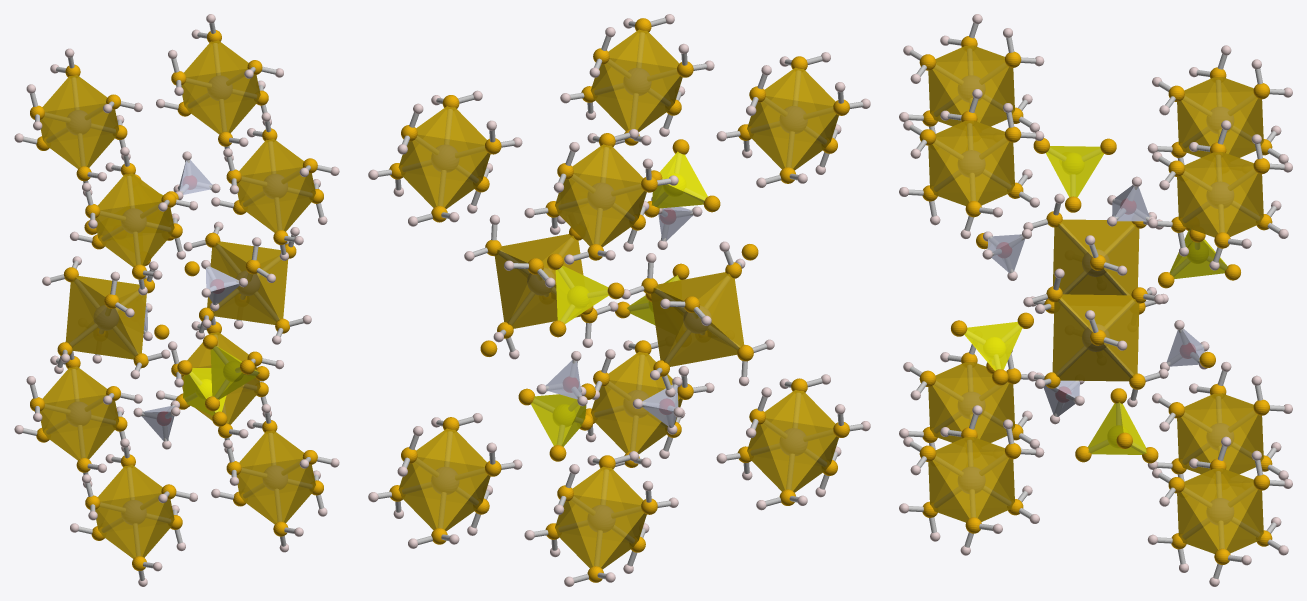
The model's file is FeH20S2(NO7)2.fbx.
3 views of the same model, side by side, from view 1: azimuth 30°, elevation 25°; view 2: azimuth 150°, elevation 25°; view 3: azimuth 270°, elevation 25° (orthographic). The views are drawn at different scales.
Visible parts, largest first — view 1: Shape_IndexedFaceSet, Shape_IndexedFaceSet.024, Shape_IndexedFaceSet.032, Shape_IndexedFaceSet.040, Shape_IndexedFaceSet.016, Shape_IndexedFaceSet.056, Shape_IndexedFaceSet.008, Shape_IndexedFaceSet.064, Shape_IndexedFaceSet.072, Shape_IndexedFaceSet.066, Shape_IndexedFaceSet.011, Shape_IndexedFaceSet.019 (+70 smaller); view 2: Shape_IndexedFaceSet.014, Shape_IndexedFaceSet.054, Shape_IndexedFaceSet.006, Shape_IndexedFaceSet.030, Shape_IndexedFaceSet.022, Shape_IndexedFaceSet.038, Shape_IndexedFaceSet.046, Shape_IndexedFaceSet.062, Shape_IndexedFaceSet.070, Shape_IndexedFaceSet.087, Shape_IndexedFaceSet.066, Shape_IndexedFaceSet.078 (+57 smaller); view 3: Shape_IndexedFaceSet.037, Shape_IndexedFaceSet.053, Shape_IndexedFaceSet.061, Shape_IndexedFaceSet.045, Shape_IndexedFaceSet.005, Shape_IndexedFaceSet.013, Shape_IndexedFaceSet.021, Shape_IndexedFaceSet.029, Shape_IndexedFaceSet.090, Shape_IndexedFaceSet.073, Shape_IndexedFaceSet.077, Shape_IndexedFaceSet.094 (+79 smaller).
Boxes of the visible parts, x1,y1,x2,y2 form: Shape_IndexedFaceSet: (42,103,108,167); Shape_IndexedFaceSet.024: (97,493,164,557); Shape_IndexedFaceSet.032: (183,68,249,132); Shape_IndexedFaceSet.040: (239,167,305,231); Shape_IndexedFaceSet.016: (42,394,108,458); Shape_IndexedFaceSet.056: (239,458,305,522); Shape_IndexedFaceSet.008: (97,201,163,265); Shape_IndexedFaceSet.064: (70,307,138,359); Shape_IndexedFaceSet.072: (211,272,279,324); Shape_IndexedFaceSet.066: (65,277,106,344); Shape_IndexedFaceSet.011: (98,173,162,210); Shape_IndexedFaceSet.019: (42,366,107,403); Shape_IndexedFaceSet.014: (760,96,835,168); Shape_IndexedFaceSet.054: (412,457,487,529); Shape_IndexedFaceSet.006: (568,172,643,245); Shape_IndexedFaceSet.030: (761,418,835,490); Shape_IndexedFaceSet.022: (568,495,643,567); Shape_IndexedFaceSet.038: (412,134,487,207); Shape_IndexedFaceSet.046: (604,58,679,129); Shape_IndexedFaceSet.062: (604,380,679,452); Shape_IndexedFaceSet.070: (664,312,739,366); Shape_IndexedFaceSet.087: (555,265,608,323); Shape_IndexedFaceSet.066: (698,274,744,347); Shape_IndexedFaceSet.078: (508,274,580,328); Shape_IndexedFaceSet.037: (1181,166,1257,233); Shape_IndexedFaceSet.053: (1181,482,1257,549); Shape_IndexedFaceSet.061: (932,451,1008,518); Shape_IndexedFaceSet.045: (932,135,1008,201); Shape_IndexedFaceSet.005: (1181,91,1257,153); Shape_IndexedFaceSet.013: (932,60,1008,122); Shape_IndexedFaceSet.021: (1181,408,1257,470); Shape_IndexedFaceSet.029: (932,377,1008,438); Shape_IndexedFaceSet.090: (1046,146,1103,197); Shape_IndexedFaceSet.073: (1052,299,1091,375); Shape_IndexedFaceSet.077: (1057,343,1132,381); Shape_IndexedFaceSet.094: (964,322,1022,370).
Size of the model in its own units: 1420 by 1772 by 1418.
